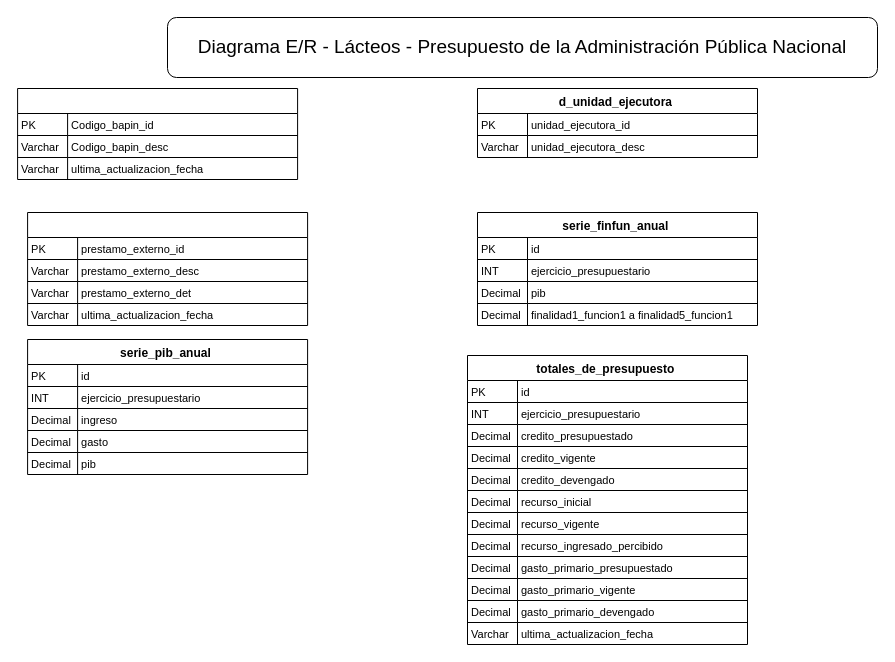
Some shapes in this 895 by 662 pixel diagram are drawn without their labels. The shapes that lost their labels are listed below. From the top down, each one's box as (x1, y1, x2, y2) in pixels, then its label:
(17, 88, 298, 180): d_codigo_bapin
(27, 212, 308, 326): d_prestamo_externo
